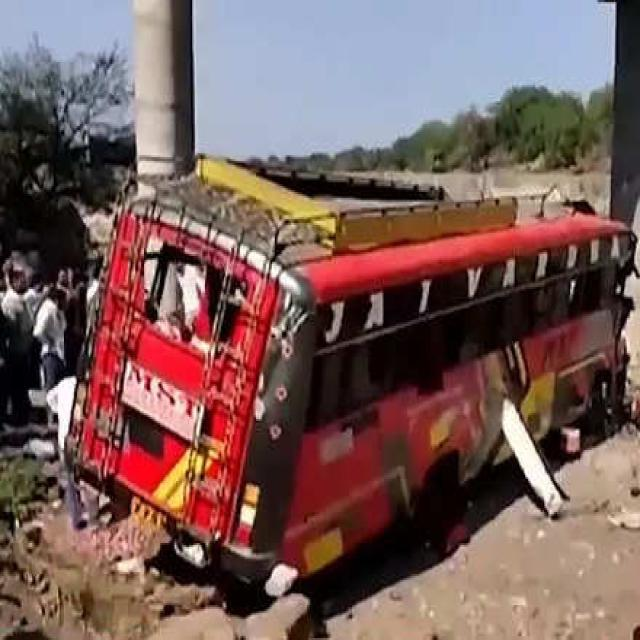accident: (68, 157, 635, 588)
